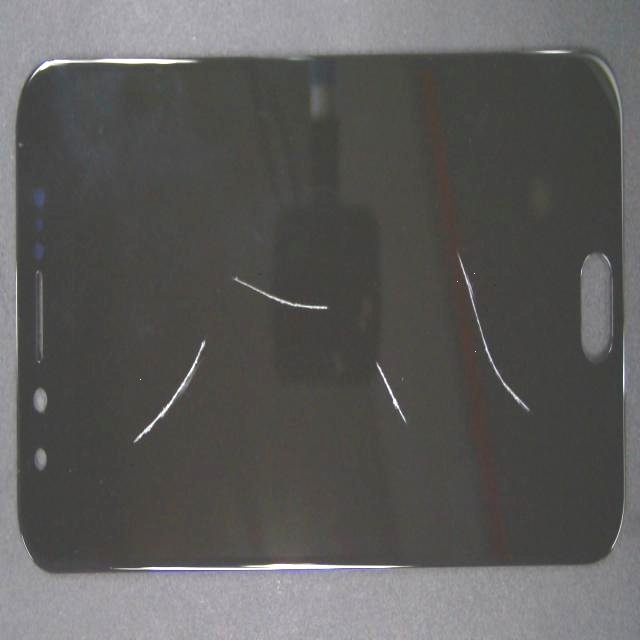scratch: (180, 216, 587, 640), (226, 72, 640, 406), (62, 143, 391, 476), (40, 221, 191, 640)
